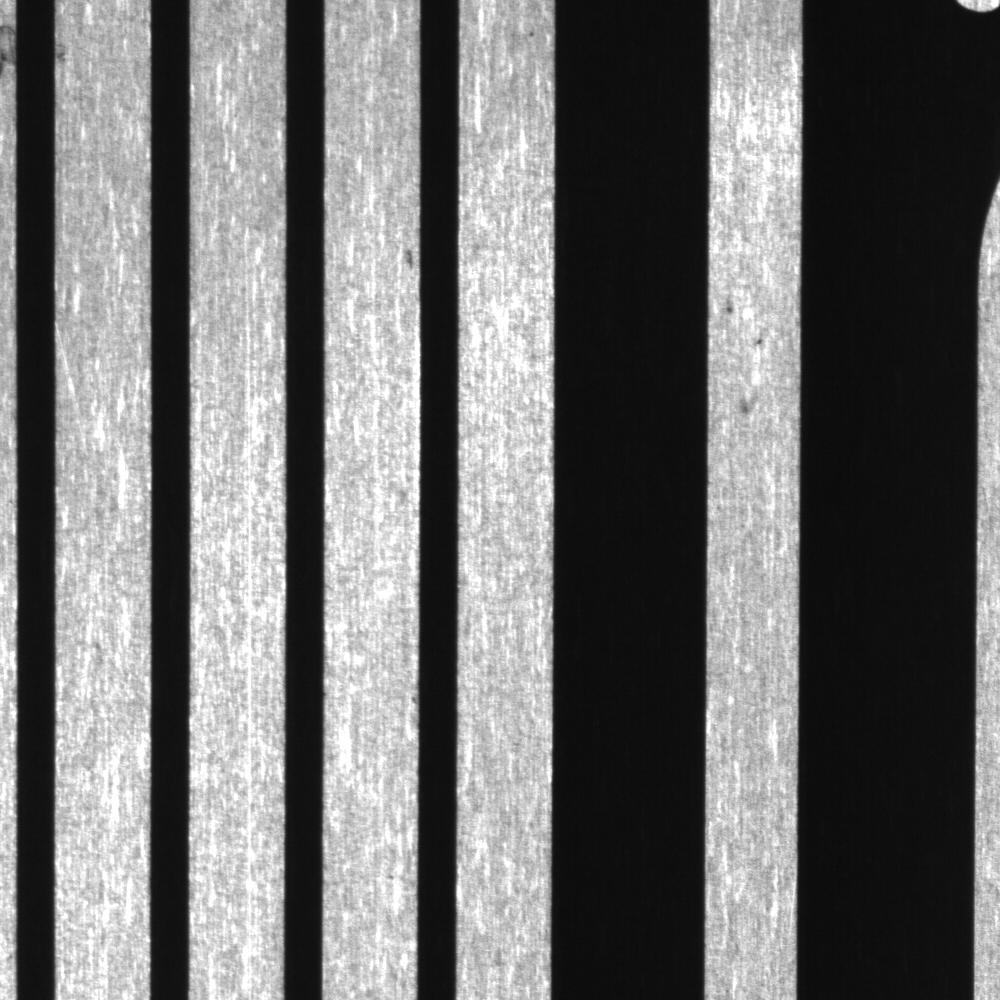Discolor: (1, 16, 21, 84), (57, 32, 78, 81)
Etching: (716, 296, 773, 423), (394, 241, 420, 273), (403, 685, 420, 714)
Pinhole: (523, 21, 544, 47)
Scar: (53, 312, 98, 452)
